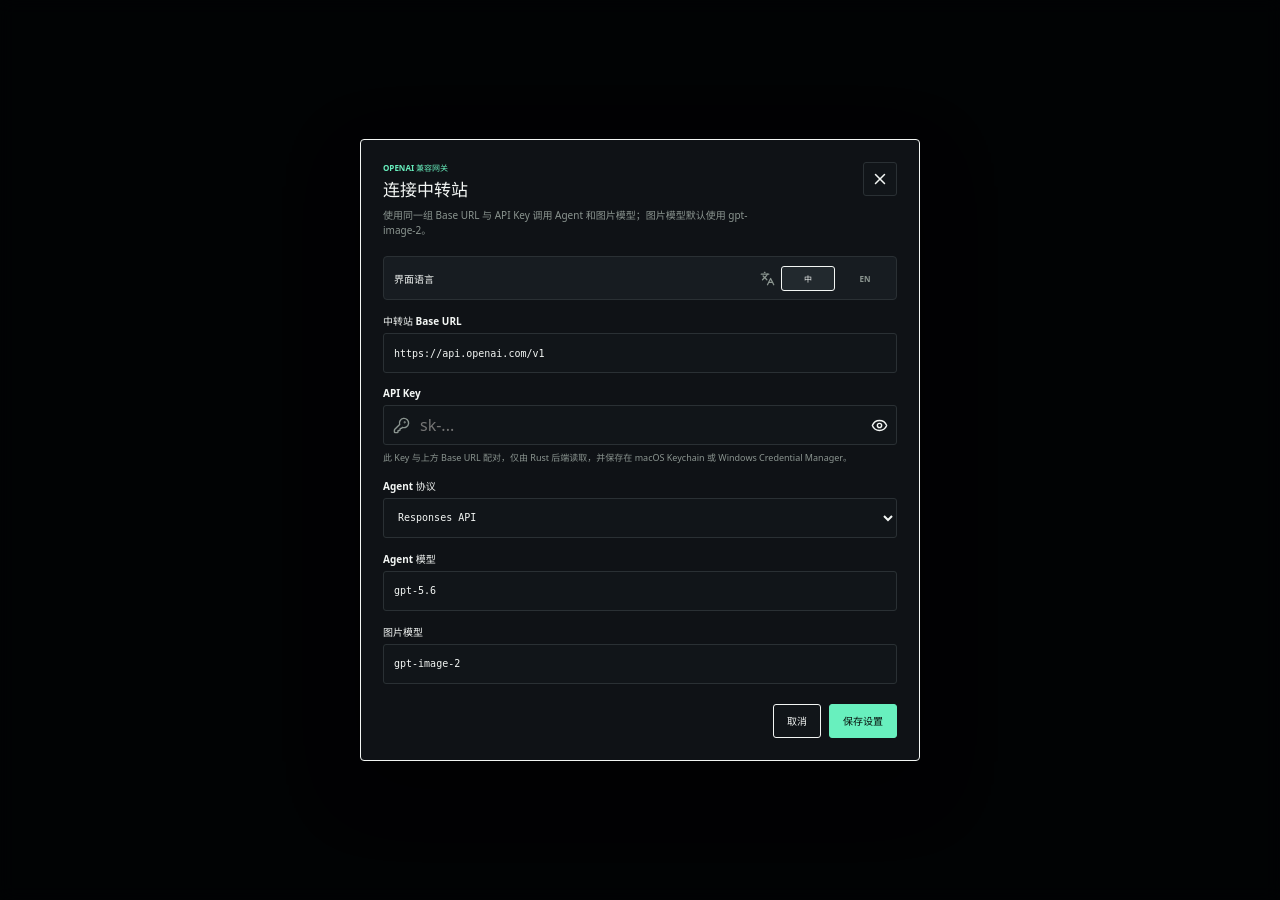
Test: bilingual internationalization › switches the rendered UI immediately and persists the locale
Expected: the heading "连接中转站" is shown, [383, 178, 468, 202]
Click the button with aria-label "Switch to English".
click(865, 278)  # box [838, 266, 892, 291]
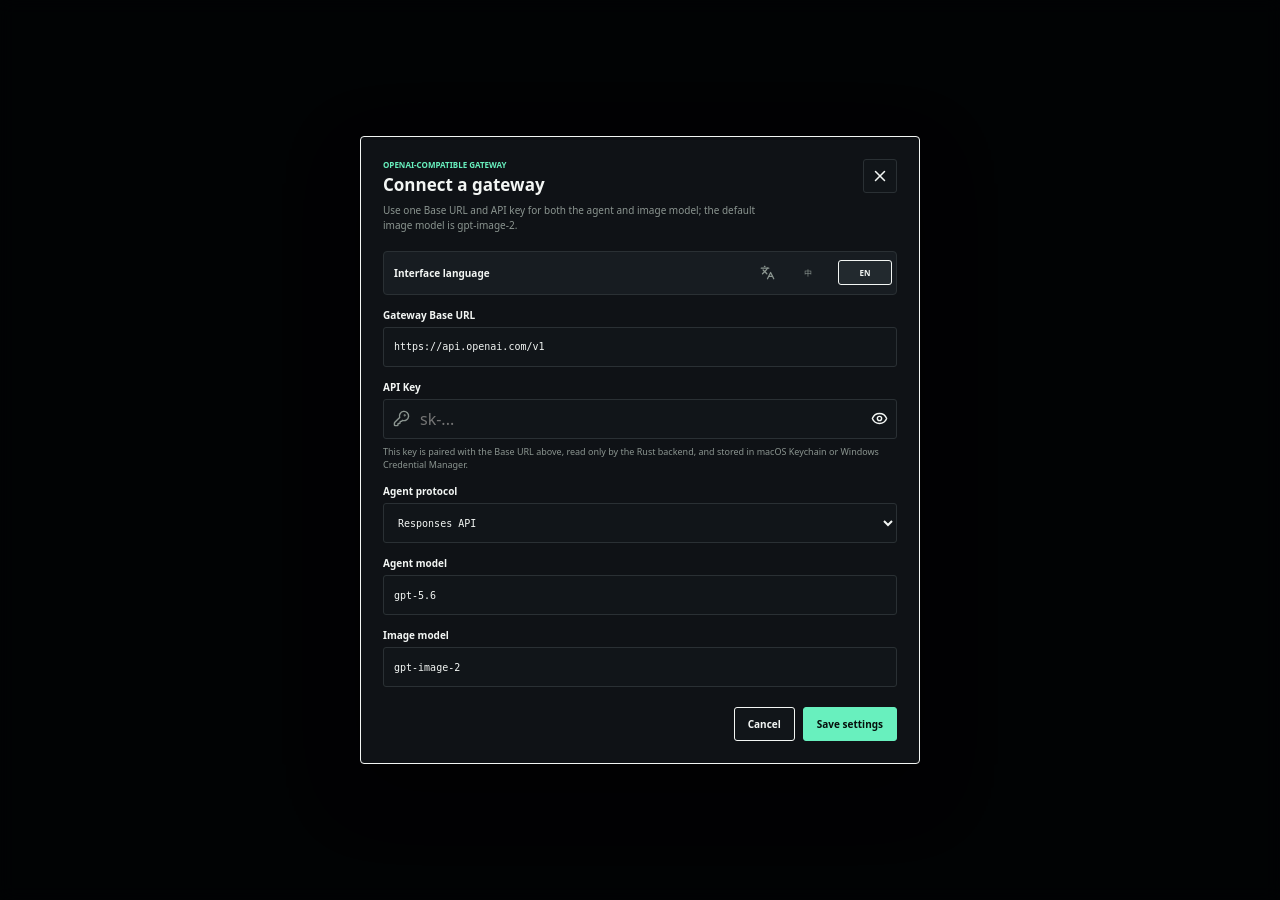
Expected: the heading "Connect a gateway" is shown, [383, 173, 545, 196]
